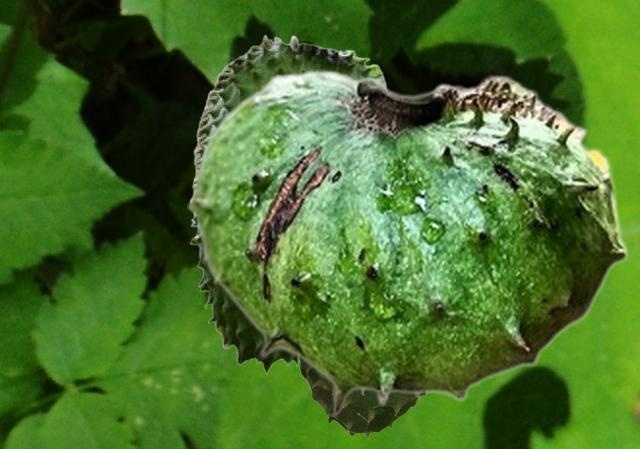guyabano: (187, 69, 628, 417), (189, 34, 387, 373), (298, 361, 426, 438)
